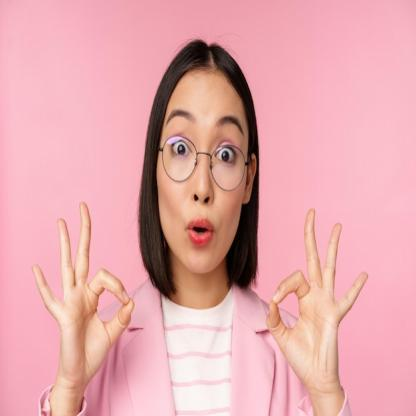ok: (266, 201, 372, 406), (31, 196, 136, 392)
